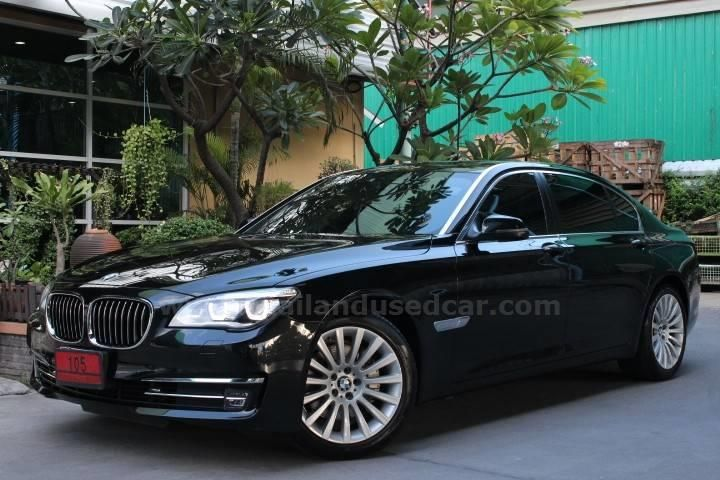sedan: (26, 159, 701, 456)
